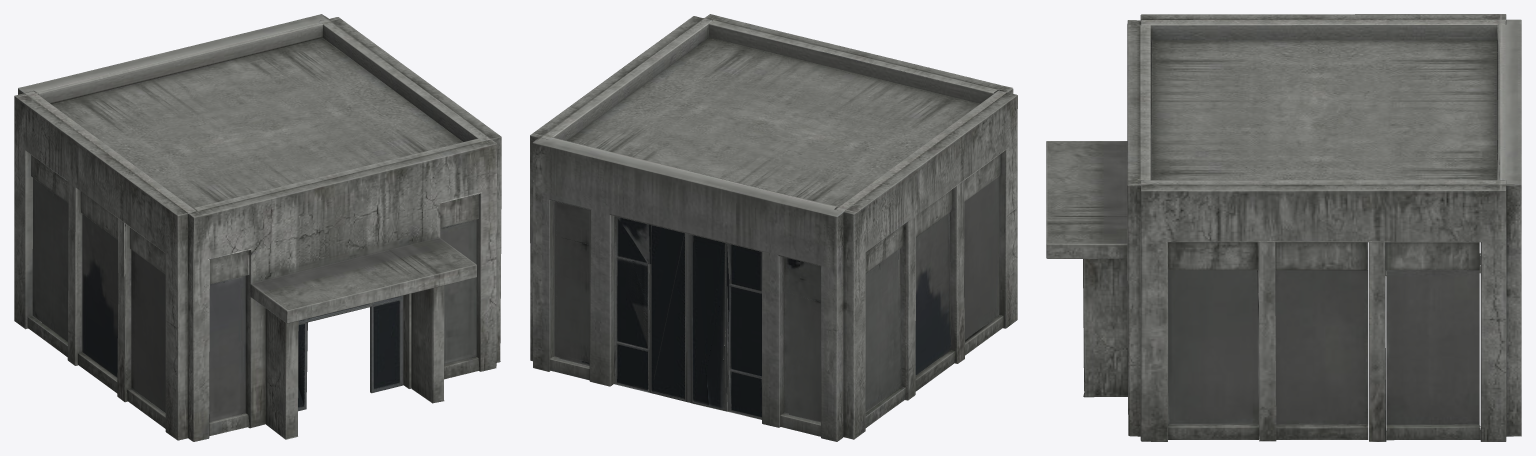
The model's file is skyscraper_base.glb.
The picture shows the model from 3 angles, left to right: view 1: azimuth 30°, elevation 25°; view 2: azimuth 150°, elevation 25°; view 3: azimuth 270°, elevation 25°; orthographic projection. The views are drawn at different scales.
Bounding box in the file's own units: 0.8354 × 0.5566 × 0.9492.
1 material, 1 textured.
